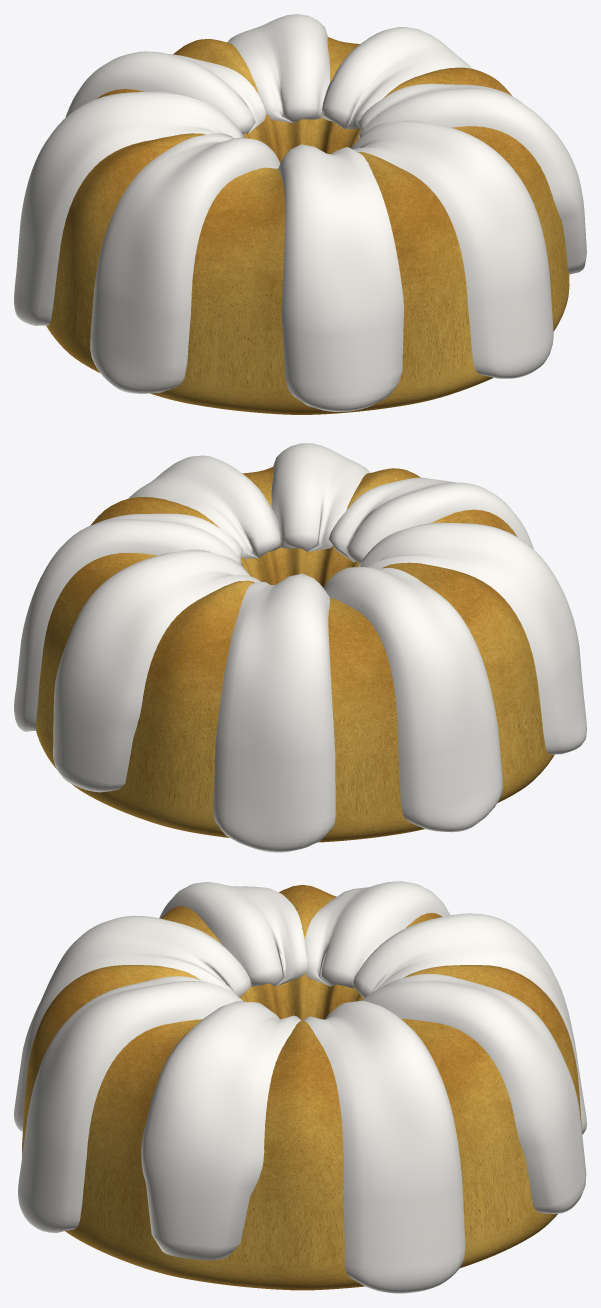
Rendered from bundt_lemon_8.glb.
The picture shows the model from 3 angles, top to bottom: view 1: azimuth 30°, elevation 25°; view 2: azimuth 150°, elevation 25°; view 3: azimuth 270°, elevation 25°; orthographic projection. The views are drawn at different scales.
Parts seen in each view (by area): view 1: cake.001, frosting.005, frosting.004, frosting.006, frosting.003, frosting.007, frosting.001, frosting.002, frosting; view 2: cake.001, frosting.002, frosting.003, frosting.001, frosting.004, frosting, frosting.005, frosting.006, frosting.007; view 3: cake.001, frosting, frosting.007, frosting.006, frosting.001, frosting.005, frosting.002, frosting.004, frosting.003.
Boxes of the visible parts, x1,y1,x2,y2 form: cake.001: [46, 37, 569, 414]; frosting.005: [278, 144, 403, 411]; frosting.004: [90, 133, 280, 393]; frosting.006: [351, 120, 553, 378]; frosting.003: [14, 91, 244, 325]; frosting.007: [358, 83, 586, 274]; frosting.001: [227, 14, 329, 122]; frosting.002: [65, 51, 265, 134]; frosting: [321, 27, 472, 128]; cake.001: [36, 467, 554, 842]; frosting.002: [213, 573, 335, 852]; frosting.003: [323, 567, 502, 832]; frosting.001: [53, 549, 261, 792]; frosting.004: [358, 522, 586, 754]; frosting: [14, 513, 243, 731]; frosting.005: [328, 477, 533, 562]; frosting.006: [271, 443, 369, 551]; frosting.007: [129, 455, 281, 558]; cake.001: [22, 885, 581, 1290]; frosting: [303, 1000, 465, 1293]; frosting.007: [141, 1001, 301, 1260]; frosting.006: [18, 976, 243, 1232]; frosting.001: [362, 974, 586, 1213]; frosting.005: [14, 915, 251, 1131]; frosting.002: [352, 913, 586, 1134]; frosting.004: [159, 882, 307, 986]; frosting.003: [304, 881, 449, 987].
Size of the model in its own units: 0.214 by 0.094 by 0.2134.
Materials: 2 (1 with a texture image).
